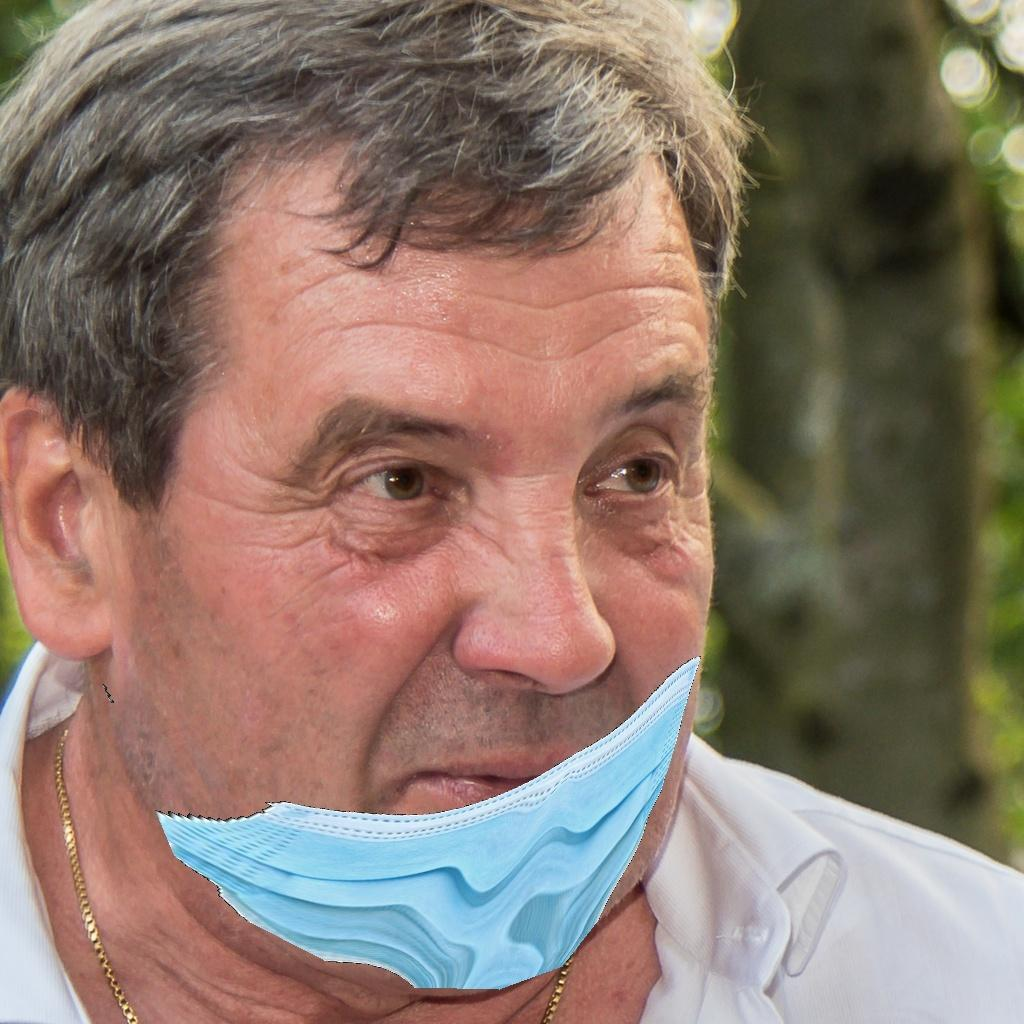Máscara Incorreta: (158, 255, 718, 943)
